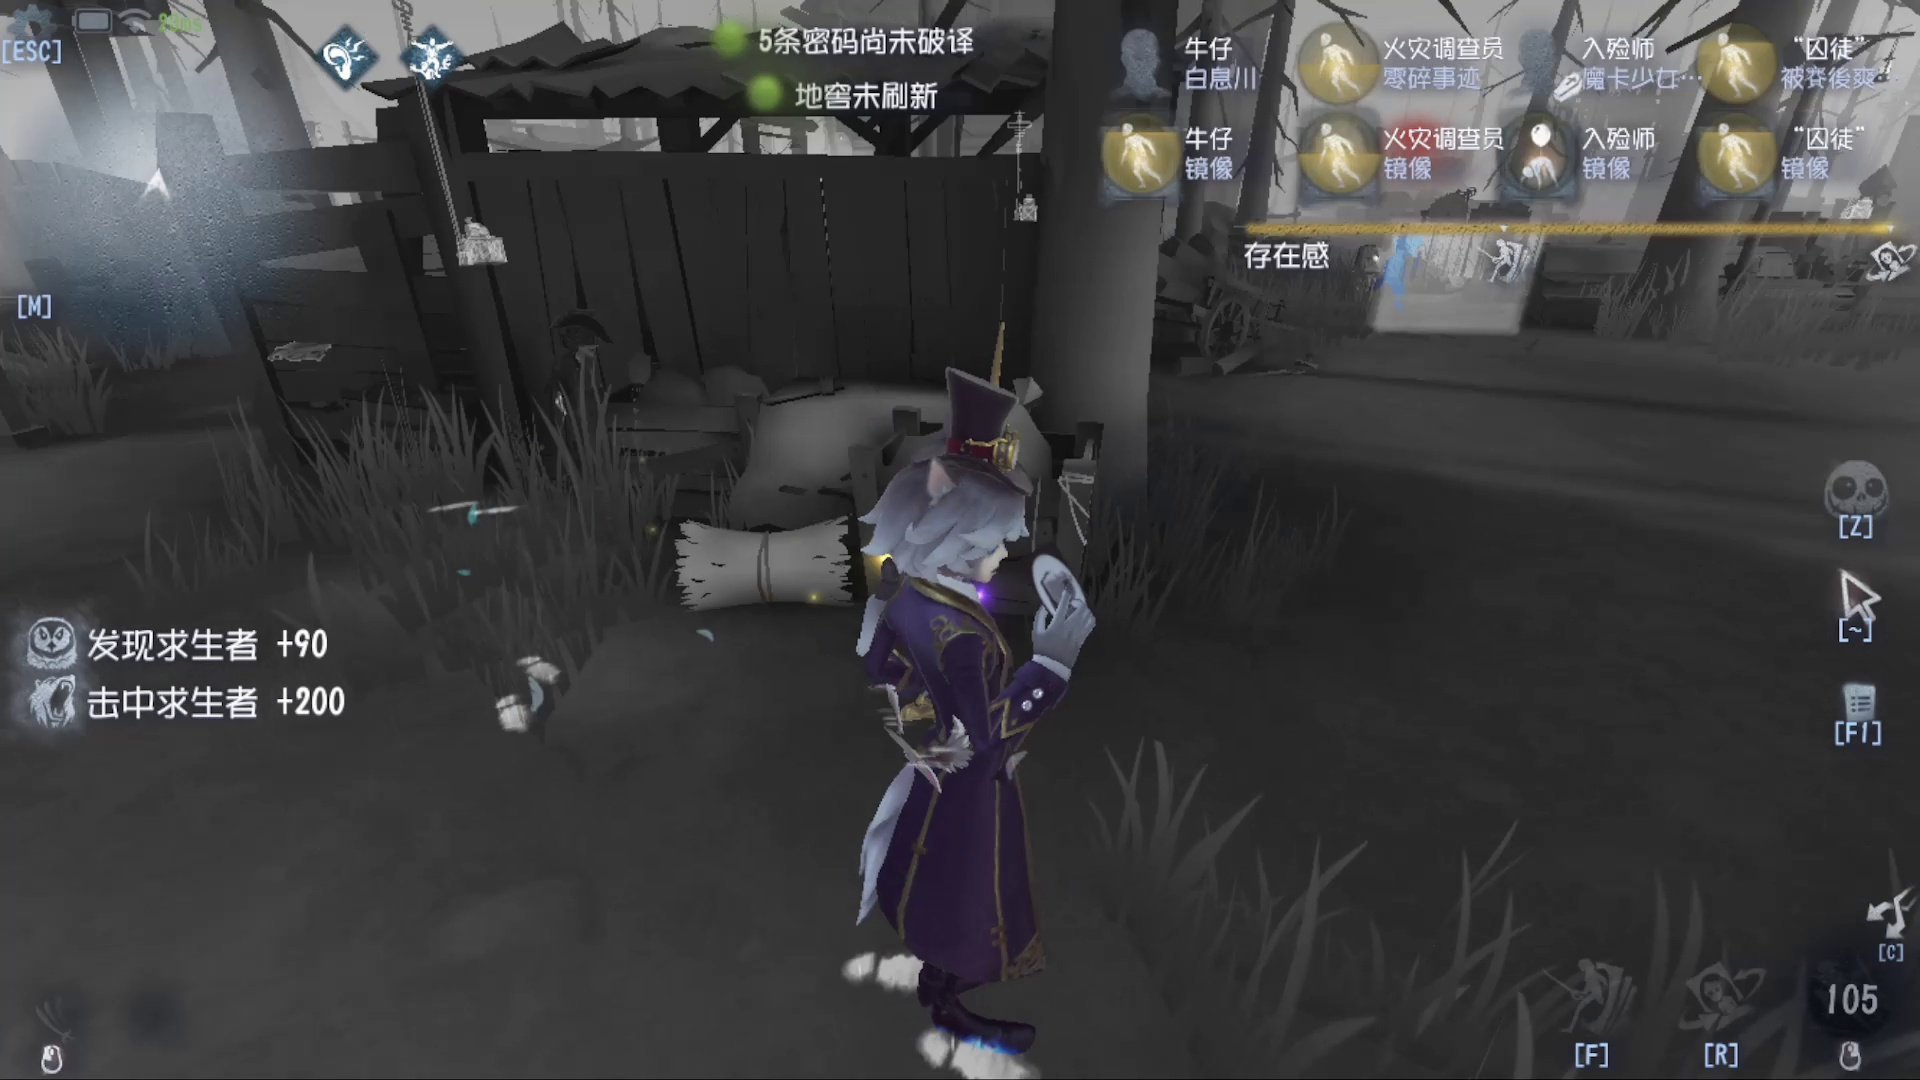密码机: (392, 146, 559, 291)
